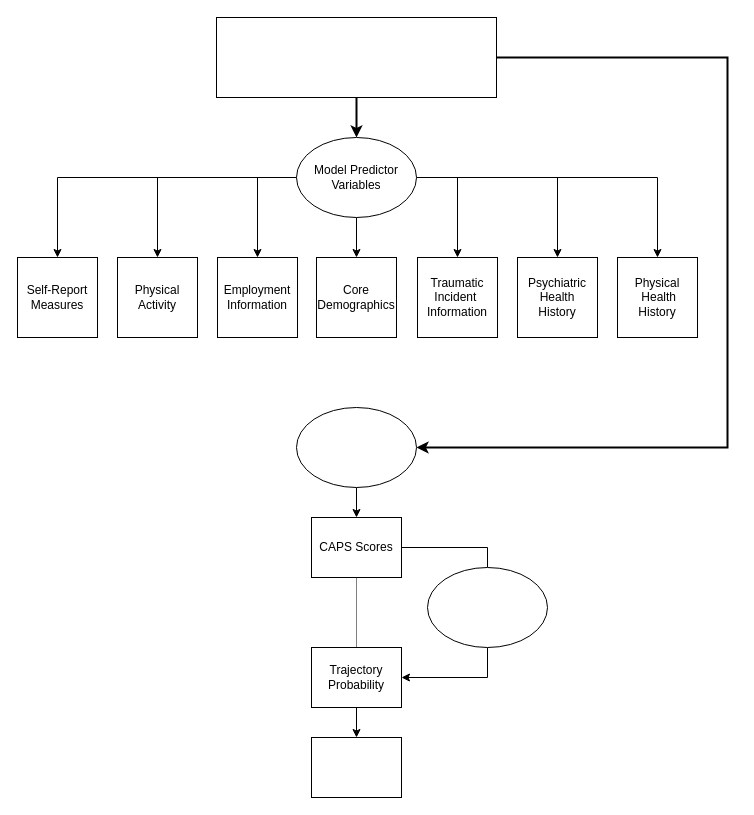
Image size: 754x815. Some labels were removed from this diagram. Here are the shapes that lost their labels. From the top down, the centre of each, then its label:
pixel 356 57: Simulated TraumaTips Data
pixel 356 447: Clinical Outcome Measures
pixel 487 607: Application of Trajectory Calculation formula
pixel 356 767: Trajectory Classification
